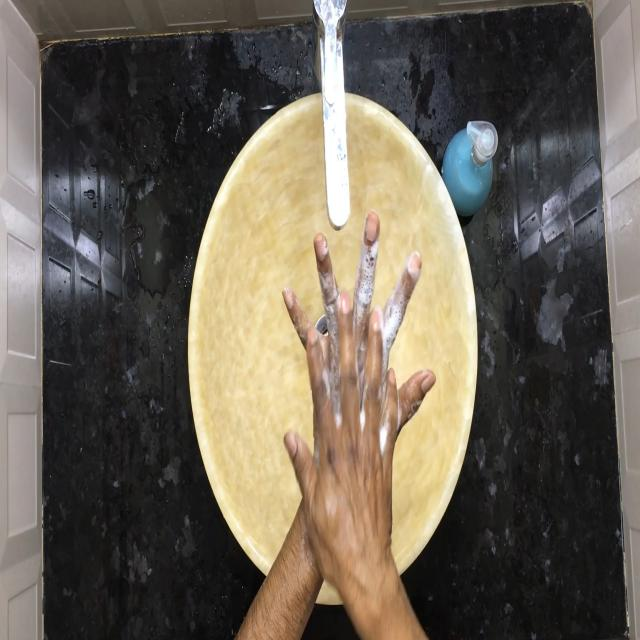step_2: (269, 199, 442, 494)
